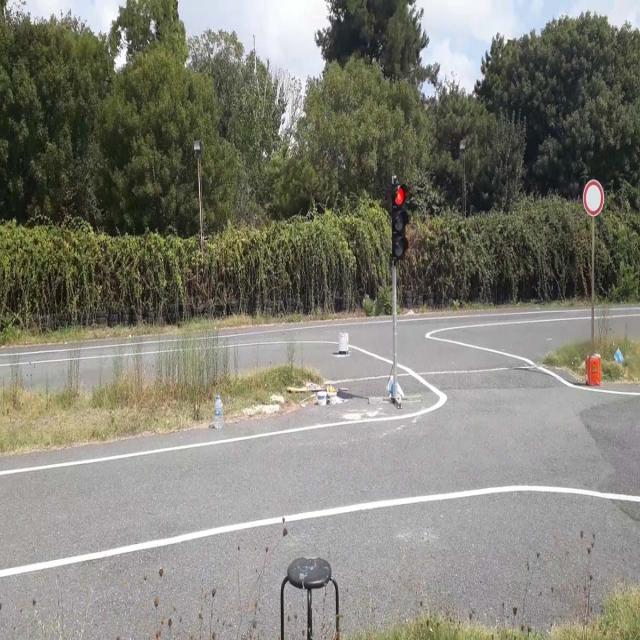kirmizi: (392, 185, 406, 258)
